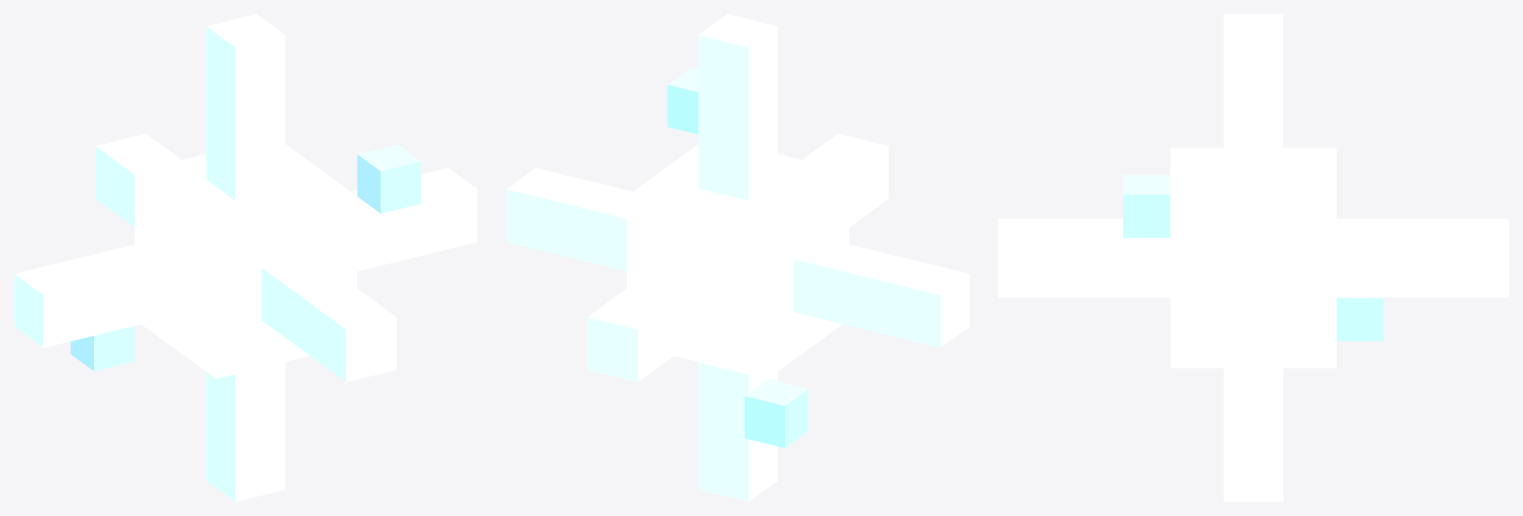
The model's file is magic_iceball.glb.
The picture shows the model from 3 angles, left to right: view 1: azimuth 30°, elevation 25°; view 2: azimuth 150°, elevation 25°; view 3: azimuth 270°, elevation 25°; orthographic projection.
Visible parts, largest first — view 1: Magic_Iceball; view 2: Magic_Iceball; view 3: Magic_Iceball.
Part boxes in pixels (x1=…): Magic_Iceball: x1=14, y1=14, x2=477, y2=501; Magic_Iceball: x1=506, y1=14, x2=969, y2=501; Magic_Iceball: x1=998, y1=14, x2=1508, y2=501.
Size of the model in its own units: 0.86 by 0.86 by 0.86.
